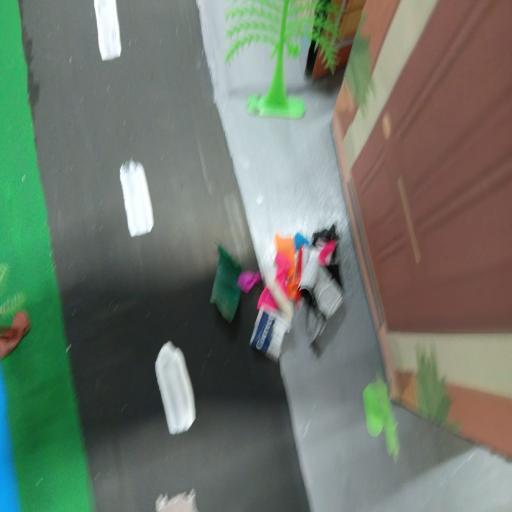trash: (203, 217, 355, 372)
